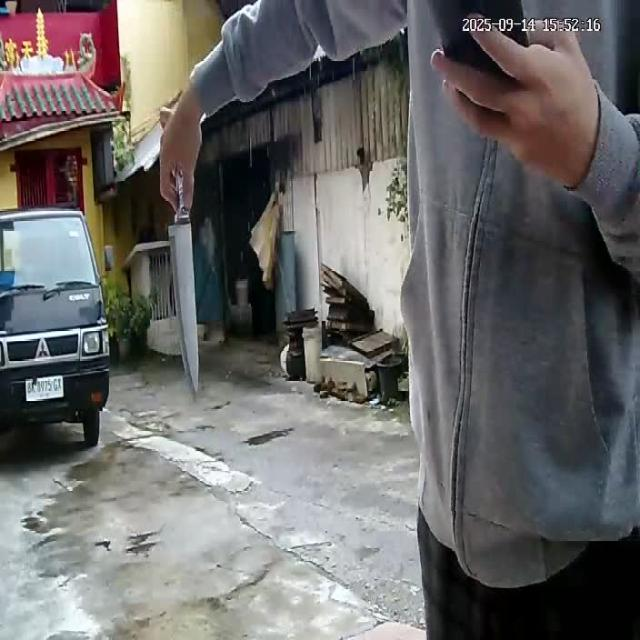senjata_tajam: (164, 205, 202, 402)
